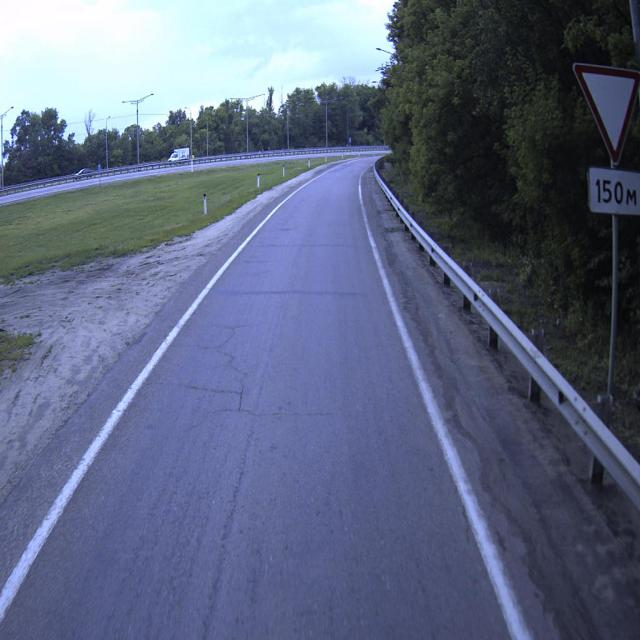road: (0, 154, 556, 639), (116, 175, 131, 179)
